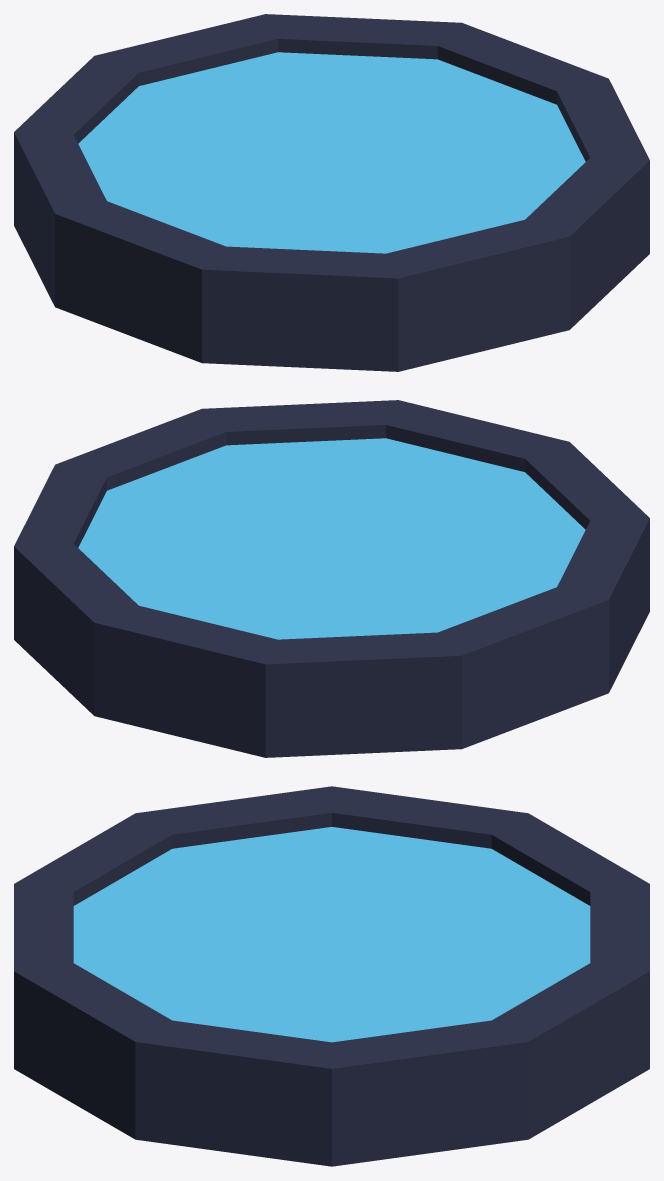
The model's file is Point.fbx.
3 renders of one model, top to bottom at view 1: azimuth 30°, elevation 25°; view 2: azimuth 150°, elevation 25°; view 3: azimuth 270°, elevation 25°, orthographic. The views are drawn at different scales.
Visible parts, largest first — view 1: Point; view 2: Point; view 3: Point.
Boxes of the visible parts, x1,y1,x2,y2 form: Point: [14, 14, 649, 371]; Point: [14, 400, 649, 757]; Point: [14, 786, 649, 1166].
Bounding box in the file's own units: 118 × 18.96 × 112.
